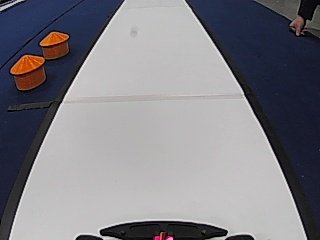granary: (9, 52, 45, 90), (37, 29, 69, 58)
